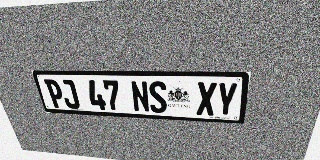4: (85, 80, 107, 110)
7: (101, 80, 123, 111)
J: (58, 79, 81, 109)
N: (130, 81, 150, 112)
P: (44, 79, 66, 108)
S: (148, 81, 167, 113)
X: (196, 82, 217, 116)
Y: (215, 82, 238, 117)
